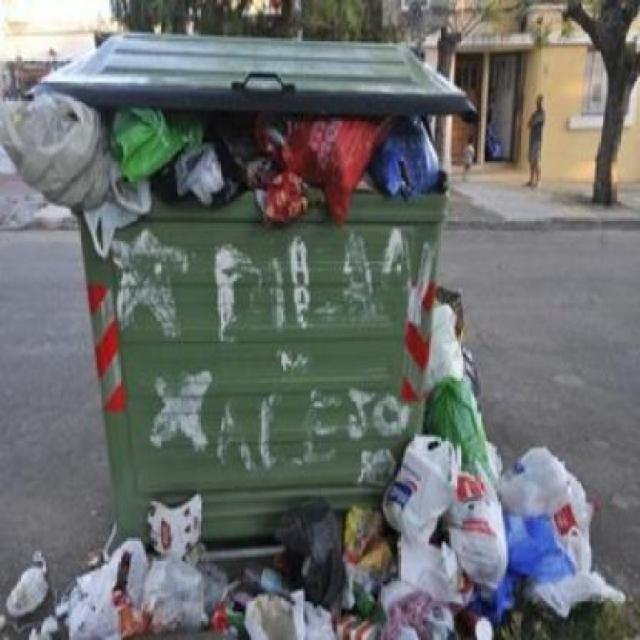garbage: (0, 77, 463, 257), (0, 512, 638, 638), (420, 274, 600, 513), (363, 435, 424, 514)
